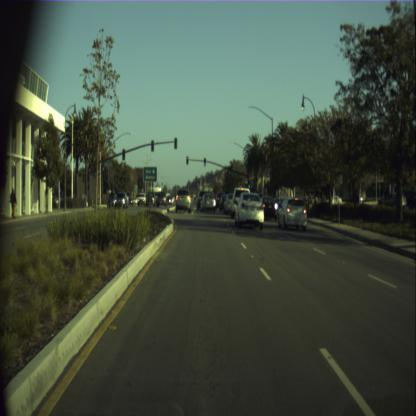Green: (204, 156, 206, 166), (228, 166, 230, 174), (248, 180, 250, 188)
Red: (186, 155, 188, 164)
